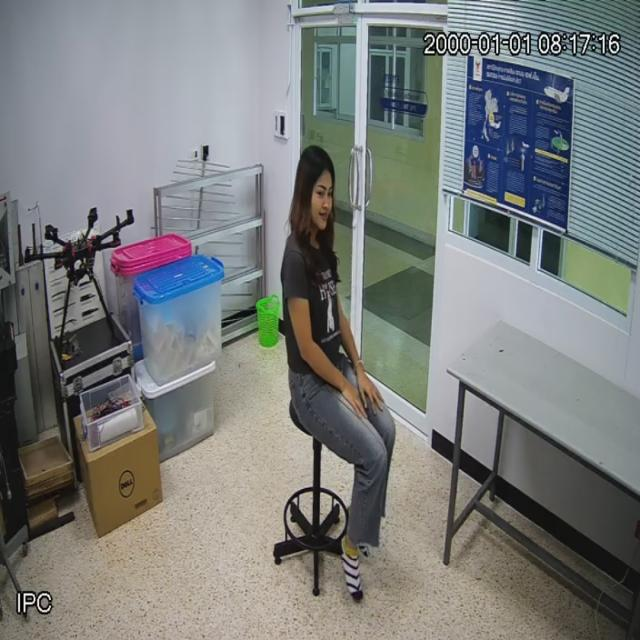normal: (281, 146, 397, 612)
